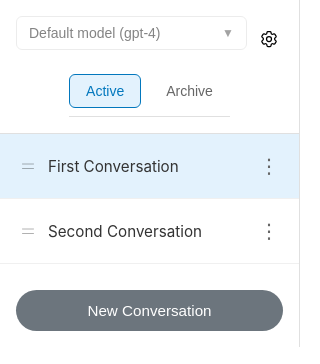
Test: ConversationList › cancels rename on Escape key
Click the button with class "menu-button" next to "First Conversation" at (269, 166), box [255,150,283,182]
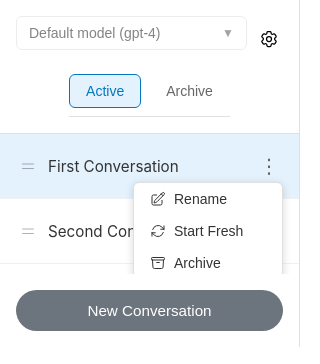
Click the button "Rename" at (208, 199), box [134,183,282,215]
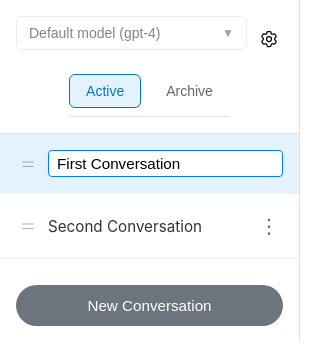
Press Escape in the field with class "conversation-title-input", box [48,150,283,177]
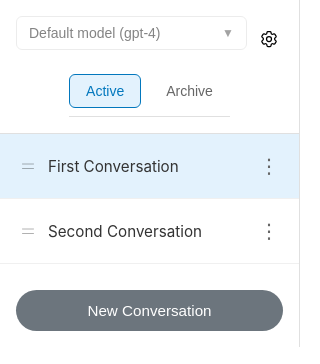
Now the field with class "conversation-title-input" is gone
